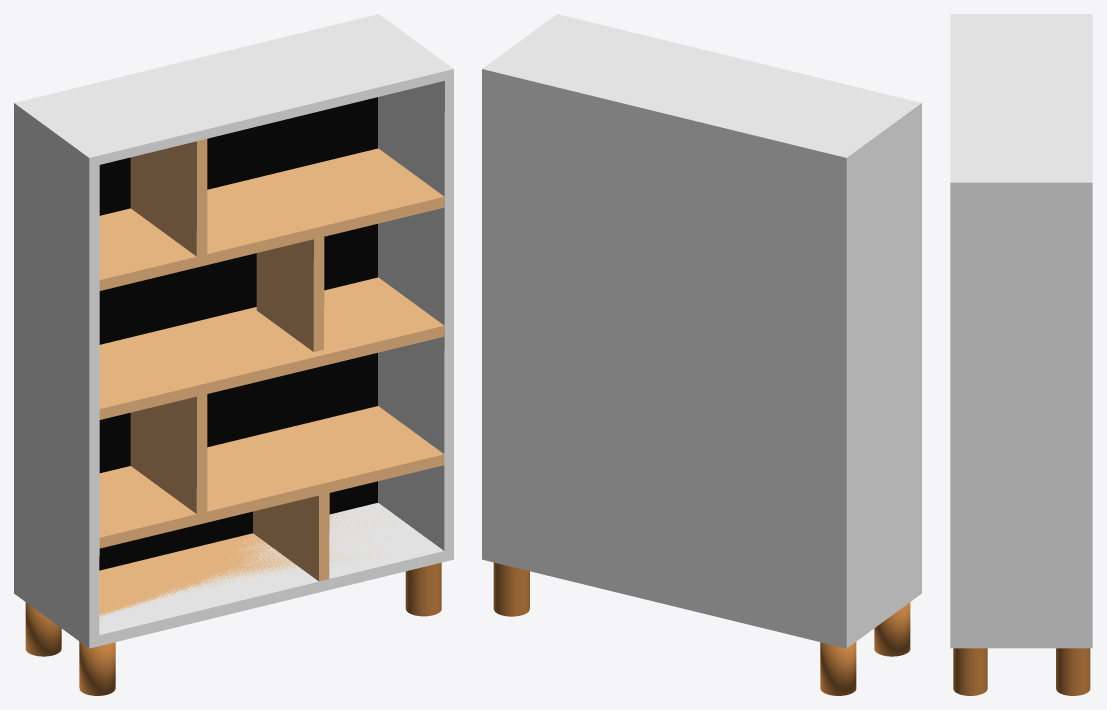
3 views of the same model, side by side, from view 1: azimuth 30°, elevation 25°; view 2: azimuth 150°, elevation 25°; view 3: azimuth 270°, elevation 25° (orthographic). The views are drawn at different scales.
Visible parts, largest first — view 1: Cube, Cube.013, Cube.002, Cube.001, Cube.003, Cube.011, Cube.008, Cube.007, Cube.006, Cube.009, Cylinder.003, Cylinder (+1 smaller); view 2: Cube, Cylinder.002, Cylinder.001, Cylinder.003; view 3: Cube, Cylinder.001, Cylinder.
Boxes of the visible parts, left/top/right/bottom form: Cube: left=14, top=14, right=453, bottom=648; Cube.013: left=99, top=97, right=377, bottom=570; Cube.002: left=99, top=277, right=444, bottom=419; Cube.001: left=99, top=148, right=444, bottom=290; Cube.003: left=99, top=406, right=444, bottom=548; Cube.011: left=99, top=505, right=389, bottom=616; Cube.008: left=130, top=394, right=207, bottom=513; Cube.007: left=130, top=137, right=207, bottom=256; Cube.006: left=256, top=237, right=324, bottom=351; Cube.009: left=253, top=492, right=329, bottom=581; Cylinder.003: left=79, top=641, right=115, bottom=695; Cylinder: left=405, top=562, right=441, bottom=616; Cube: left=482, top=14, right=921, bottom=648; Cylinder.002: left=820, top=642, right=856, bottom=695; Cylinder.001: left=493, top=562, right=529, bottom=616; Cylinder.003: left=874, top=602, right=910, bottom=656; Cube: left=950, top=14, right=1092, bottom=648; Cylinder.001: left=1056, top=648, right=1090, bottom=695; Cylinder: left=953, top=648, right=987, bottom=695.
Size of what is drawn, in the model's own units: 0.7 by 0.9957 by 0.25.
